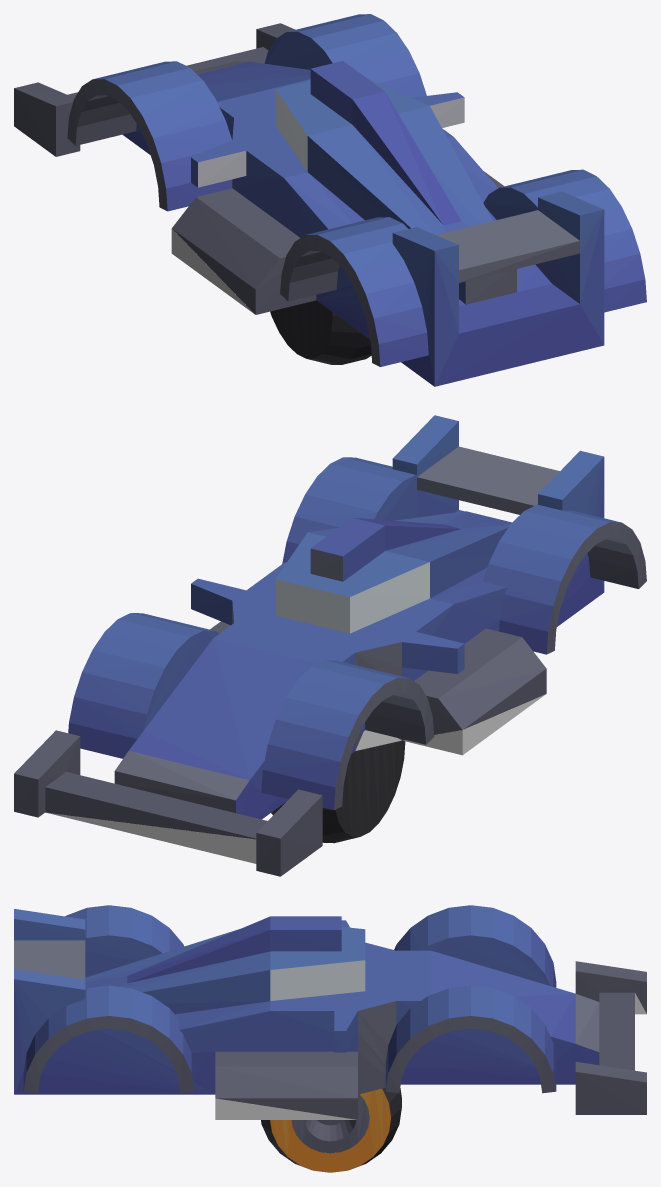
File: race-future.glb
3 renders of one model, top to bottom at view 1: azimuth 30°, elevation 25°; view 2: azimuth 150°, elevation 25°; view 3: azimuth 270°, elevation 25°, orthographic. The views are drawn at different scales.
Parts seen in each view (by area): view 1: trim, wheel, paint; view 2: trim, wheel, paint; view 3: trim, wheel, paint.
Part boxes in pixels (box(x1,y1,x2,y2)): trim: box(14, 14, 646, 386); wheel: box(270, 300, 371, 364); paint: box(171, 228, 254, 314); trim: box(14, 415, 646, 876); wheel: box(271, 740, 405, 843); paint: box(46, 694, 545, 863); trim: box(14, 905, 646, 1119); wheel: box(261, 1087, 401, 1172); paint: box(215, 993, 646, 1119).
Size of the model in its own units: 1.2 by 1.13 by 2.66.
